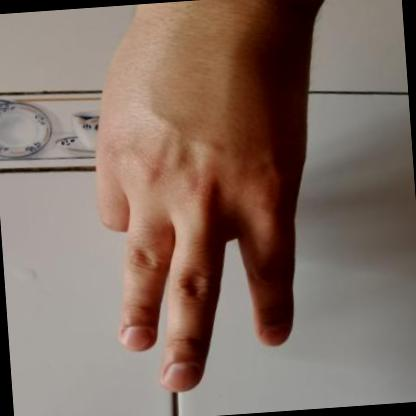M: (41, 0, 369, 412)
